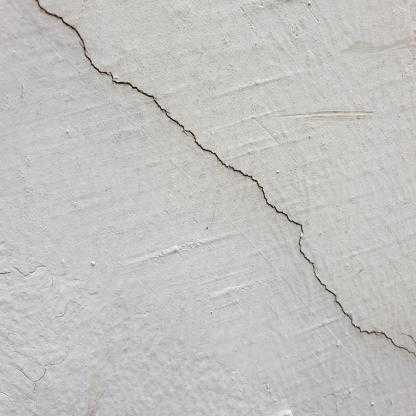crack: (36, 0, 416, 356)
